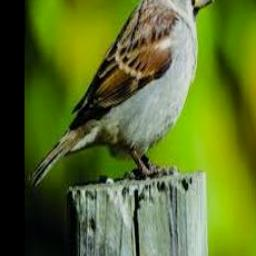Sparrow: (28, 0, 214, 188)
